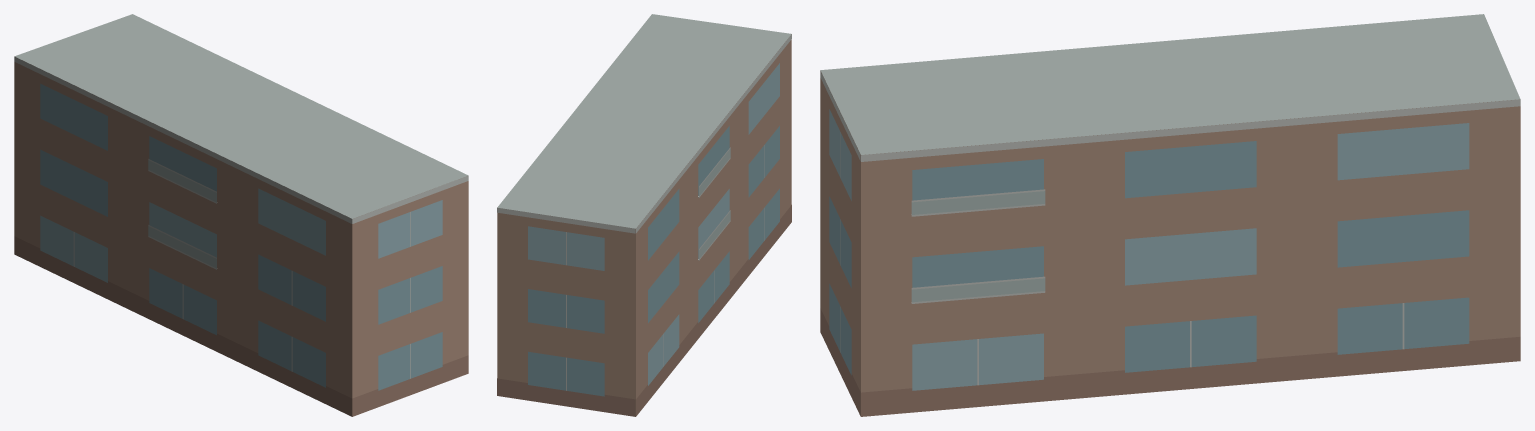
Rendered from survey-upis-33045343.glb.
The picture shows the model from 3 angles, left to right: view 1: azimuth 30°, elevation 25°; view 2: azimuth 150°, elevation 25°; view 3: azimuth 270°, elevation 25°; orthographic projection. The views are drawn at different scales.
Visible parts, largest first — view 1: survey-upis-33045343.tmp; view 2: survey-upis-33045343.tmp; view 3: survey-upis-33045343.tmp.
Boxes of the visible parts, box(x1,y1,x2,y2) form: survey-upis-33045343.tmp: box(14, 14, 468, 416); survey-upis-33045343.tmp: box(497, 14, 791, 416); survey-upis-33045343.tmp: box(820, 14, 1520, 416).
Size of the model in its own units: 10.59 by 9.15 by 22.19.
